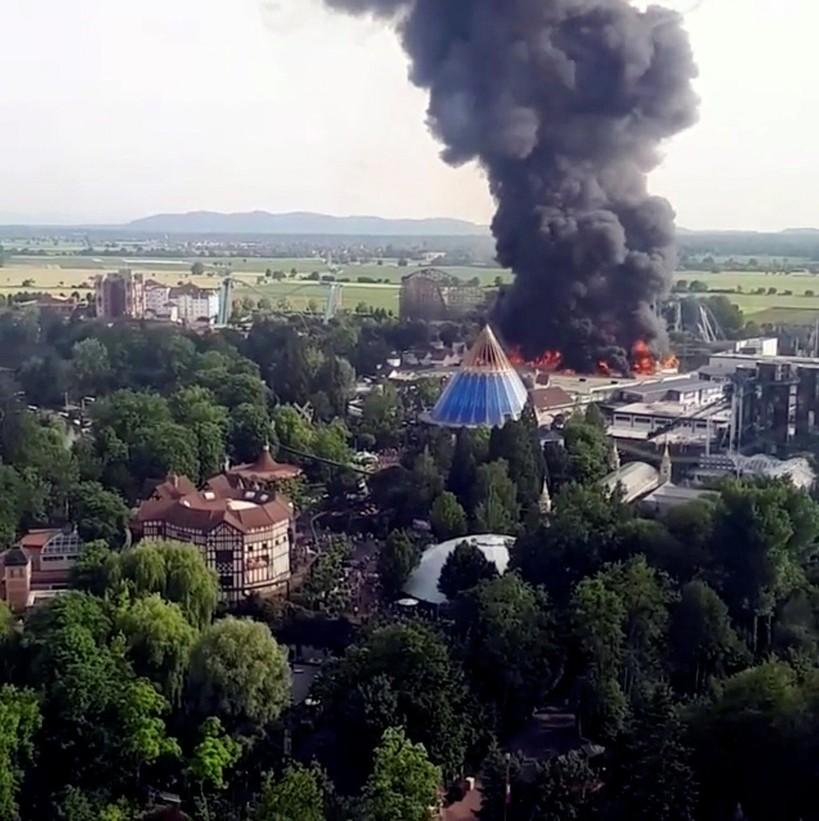fire: (630, 336, 679, 374), (508, 350, 561, 370)
